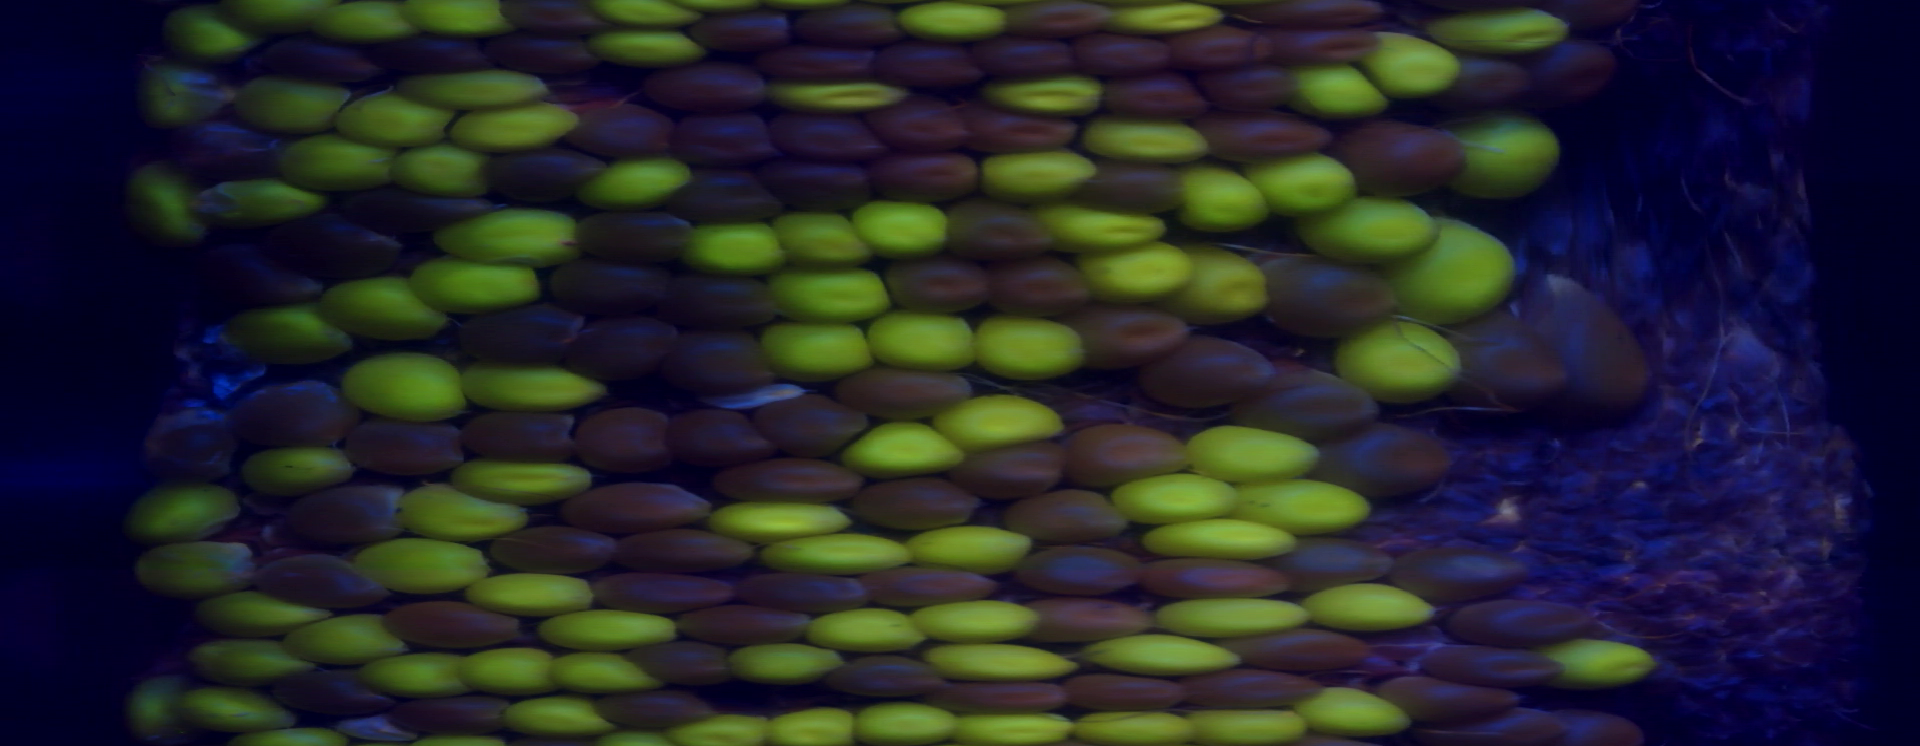fluorescent: (1398, 216, 1520, 326), (1335, 317, 1484, 402), (1222, 472, 1381, 541), (1446, 108, 1558, 198), (1296, 198, 1442, 265), (345, 356, 475, 429), (438, 209, 580, 274), (1179, 239, 1271, 334), (456, 355, 604, 413), (1145, 513, 1296, 570), (920, 639, 1082, 690), (938, 392, 1065, 456), (1082, 628, 1239, 680), (756, 315, 877, 381), (970, 316, 1089, 382), (125, 167, 216, 252), (399, 484, 535, 540), (1360, 22, 1457, 99), (322, 274, 443, 336), (872, 307, 984, 372), (468, 561, 594, 619), (1300, 584, 1445, 635), (386, 138, 498, 202), (1071, 239, 1198, 295), (765, 266, 896, 320), (331, 86, 451, 145), (1184, 428, 1318, 480), (1423, 10, 1569, 58), (973, 148, 1100, 203), (1041, 200, 1169, 254), (278, 138, 398, 196), (540, 644, 666, 698), (1109, 470, 1240, 522), (896, 524, 1037, 572), (851, 194, 953, 260), (762, 528, 910, 573), (280, 614, 414, 664), (234, 75, 345, 135), (458, 454, 594, 503), (190, 170, 322, 220), (407, 258, 549, 305), (350, 541, 485, 590), (126, 541, 271, 587), (1255, 153, 1363, 213), (684, 217, 785, 281), (1180, 701, 1321, 746), (132, 60, 236, 121), (1176, 162, 1265, 233), (1284, 59, 1387, 120), (223, 309, 348, 359), (574, 158, 693, 211), (1297, 685, 1416, 737), (769, 207, 873, 267), (711, 499, 857, 541), (1536, 639, 1649, 693), (1080, 118, 1205, 167), (842, 421, 960, 473), (913, 601, 1043, 648), (457, 646, 562, 702), (182, 633, 315, 677), (1155, 595, 1307, 633), (884, 1, 1011, 45), (764, 75, 906, 114), (538, 610, 680, 649), (309, 1, 427, 47), (124, 489, 242, 534), (451, 107, 583, 147), (732, 639, 853, 684), (989, 76, 1107, 121), (399, 71, 549, 107), (360, 654, 476, 699), (850, 699, 962, 746), (171, 684, 300, 724), (121, 680, 207, 740), (807, 608, 924, 650), (588, 29, 709, 67), (958, 708, 1074, 746), (160, 9, 250, 58), (1071, 706, 1179, 746), (233, 450, 355, 485), (195, 592, 324, 624), (500, 698, 617, 733), (407, 1, 527, 34), (1103, 4, 1222, 33), (768, 706, 851, 746), (224, 1, 336, 31), (673, 712, 769, 746), (594, 1, 707, 29)
nonfluorescent: (1524, 276, 1663, 410), (1450, 314, 1576, 412), (1136, 328, 1278, 414), (1253, 254, 1400, 332), (1250, 366, 1389, 443), (1342, 122, 1472, 197), (1314, 424, 1451, 492), (1060, 300, 1191, 371), (264, 217, 402, 282), (1131, 552, 1291, 608), (256, 554, 392, 614), (452, 303, 580, 365), (659, 325, 779, 391), (200, 241, 321, 306), (658, 267, 782, 330), (549, 254, 675, 315), (233, 386, 354, 450), (564, 315, 680, 381), (283, 481, 409, 541), (566, 479, 716, 529), (722, 454, 869, 506), (340, 186, 504, 232), (866, 146, 987, 207), (1060, 421, 1187, 480), (381, 599, 528, 649), (762, 153, 884, 213), (861, 470, 983, 530), (1206, 111, 1338, 167), (1386, 548, 1529, 598), (1074, 156, 1187, 218), (945, 198, 1056, 262), (1010, 541, 1138, 597), (926, 669, 1071, 717), (831, 364, 981, 410), (853, 560, 1008, 604), (1444, 600, 1597, 644), (1019, 597, 1160, 644), (587, 567, 733, 612), (355, 420, 467, 479), (1427, 643, 1564, 691), (612, 526, 760, 570), (733, 566, 873, 612), (671, 110, 786, 167), (951, 443, 1071, 497), (464, 412, 590, 461), (573, 412, 676, 472), (1174, 24, 1277, 85), (140, 418, 240, 479), (753, 396, 862, 452), (1452, 49, 1543, 116), (1057, 675, 1195, 719), (490, 151, 611, 201), (1380, 677, 1520, 720), (571, 213, 696, 261), (863, 97, 973, 151), (673, 169, 781, 224), (998, 492, 1125, 539), (988, 252, 1085, 314), (276, 664, 391, 715), (486, 528, 628, 570), (965, 100, 1082, 149), (1273, 539, 1393, 587), (566, 107, 680, 157), (835, 652, 949, 702), (640, 67, 769, 111), (666, 409, 774, 461), (878, 262, 993, 310), (1240, 1, 1398, 36), (771, 111, 888, 158), (624, 639, 733, 688), (681, 601, 814, 641), (878, 40, 984, 89), (171, 124, 280, 171), (1180, 673, 1321, 709), (1429, 710, 1571, 746), (362, 36, 500, 72), (683, 13, 798, 56), (763, 40, 880, 82), (1232, 635, 1379, 668), (1074, 33, 1176, 81), (1271, 23, 1387, 65), (1531, 39, 1611, 98), (261, 39, 365, 85), (487, 31, 598, 71), (792, 10, 902, 50), (596, 688, 713, 726), (973, 36, 1078, 77), (1104, 75, 1204, 118), (389, 697, 523, 729), (1198, 65, 1296, 107), (498, 1, 620, 34), (1542, 708, 1640, 746), (1000, 1, 1111, 26)
